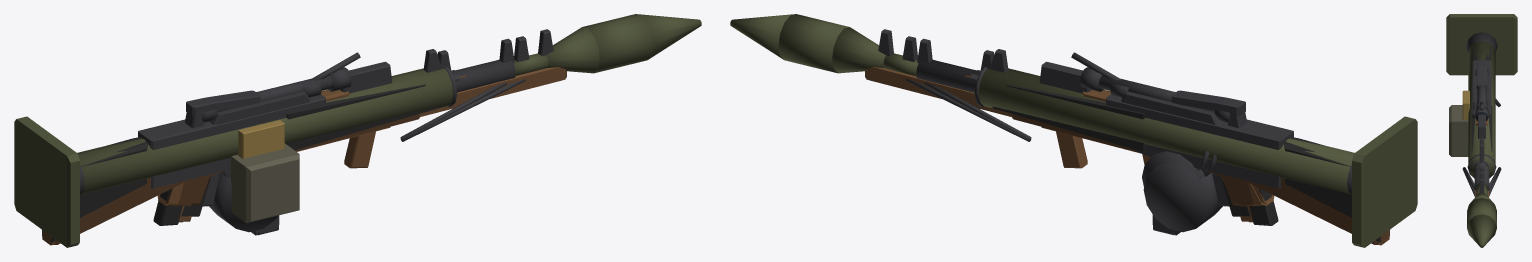
Rendered from weapons.fbx.
3 renders of one model, left to right at view 1: azimuth 30°, elevation 25°; view 2: azimuth 150°, elevation 25°; view 3: azimuth 270°, elevation 25°, orthographic. The views are drawn at different scales.
Visible parts, largest first — view 1: mortar, m60, rpg, m40, m16, rpd, mosin, m79, ak, sks, m3; view 2: mortar, rpg, m60, rpd, m16, m40, mosin, m79, ppsh, ak, sks, m3; view 3: mortar, rpg, m60, m16, m40, rpd, ak, mosin.
Part boxes in pixels (<box>): mortar: <box>14,67,457,247</box>; m60: <box>80,29,553,225</box>; rpg: <box>80,14,701,194</box>; m40: <box>48,67,419,244</box>; m16: <box>42,49,440,242</box>; rpd: <box>51,36,529,238</box>; mosin: <box>43,67,566,234</box>; m79: <box>43,97,310,241</box>; ak: <box>42,50,451,245</box>; sks: <box>158,38,514,206</box>; m3: <box>202,173,279,235</box>; mortar: <box>974,67,1417,247</box>; rpg: <box>730,14,1351,194</box>; m60: <box>878,29,1351,225</box>; rpd: <box>902,36,1389,236</box>; m16: <box>990,49,1389,242</box>; m40: <box>1012,67,1386,244</box>; mosin: <box>865,67,1228,170</box>; m79: <box>1121,97,1386,241</box>; ppsh: <box>971,70,1384,240</box>; ak: <box>980,50,1389,245</box>; sks: <box>917,38,1273,206</box>; m3: <box>1152,173,1229,235</box>; mortar: <box>1446,14,1517,178</box>; rpg: <box>1466,32,1497,247</box>; m60: <box>1449,44,1501,196</box>; m16: <box>1471,61,1492,150</box>; m40: <box>1475,69,1500,121</box>; rpd: <box>1463,167,1500,189</box>; ak: <box>1476,119,1487,162</box>; mosin: <box>1475,101,1496,197</box>.
Size of the model in its own units: 1.35 by 0.3057 by 0.2.
Materials: 1 (1 with a texture image).
